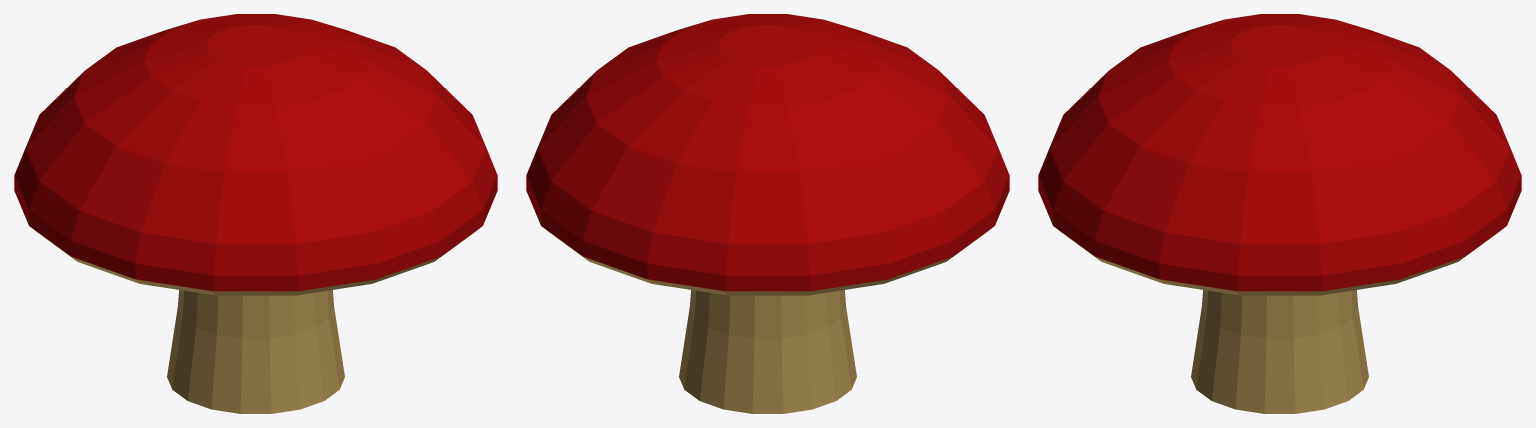
The model's file is Mushroom_Red.fbx.
3 renders of one model, left to right at view 1: azimuth 30°, elevation 25°; view 2: azimuth 150°, elevation 25°; view 3: azimuth 270°, elevation 25°, orthographic.
Visible parts, largest first — view 1: Head, Foot; view 2: Head, Foot; view 3: Head, Foot.
Boxes of the visible parts, x1=… form: Head: x1=14, y1=14, x2=497, y2=291; Foot: x1=32, y1=228, x2=479, y2=413; Head: x1=526, y1=14, x2=1009, y2=291; Foot: x1=544, y1=228, x2=991, y2=413; Head: x1=1038, y1=14, x2=1521, y2=291; Foot: x1=1056, y1=228, x2=1503, y2=413.
Bounding box in the file's own units: 60.57 × 46.54 × 61.51.
